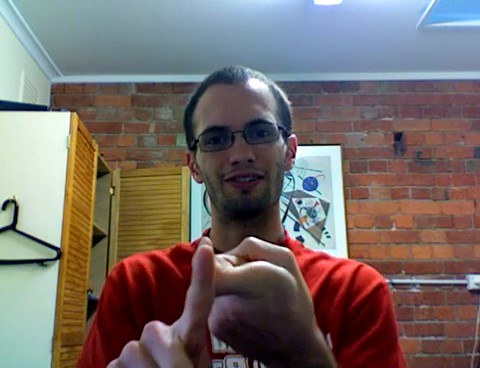K: (104, 224, 352, 368)
